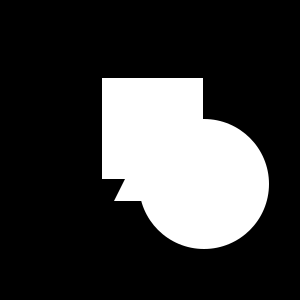circle: (102, 78, 203, 179)
rectangle: (139, 119, 269, 249)
triangle: (114, 110, 205, 201)
